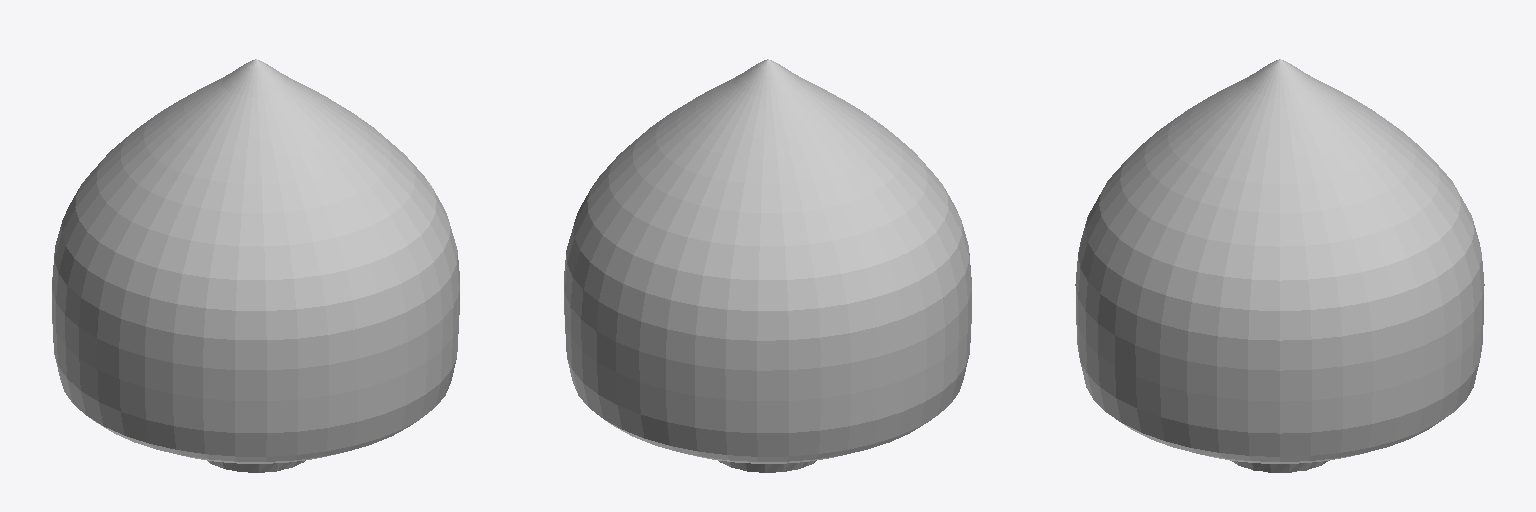
The model's file is bush.obj.
The picture shows the model from 3 angles: view 1: azimuth 30°, elevation 25°; view 2: azimuth 150°, elevation 25°; view 3: azimuth 270°, elevation 25°; orthographic projection.
Parts seen in each view (by area): view 1: pCylinder1; view 2: pCylinder1; view 3: pCylinder1.
Part boxes in pixels (left/top/right/bottom): pCylinder1: left=52, top=59, right=459, bottom=472; pCylinder1: left=564, top=59, right=971, bottom=472; pCylinder1: left=1075, top=59, right=1484, bottom=472.
Size of the model in its own units: 4.02 by 4.27 by 4.02.